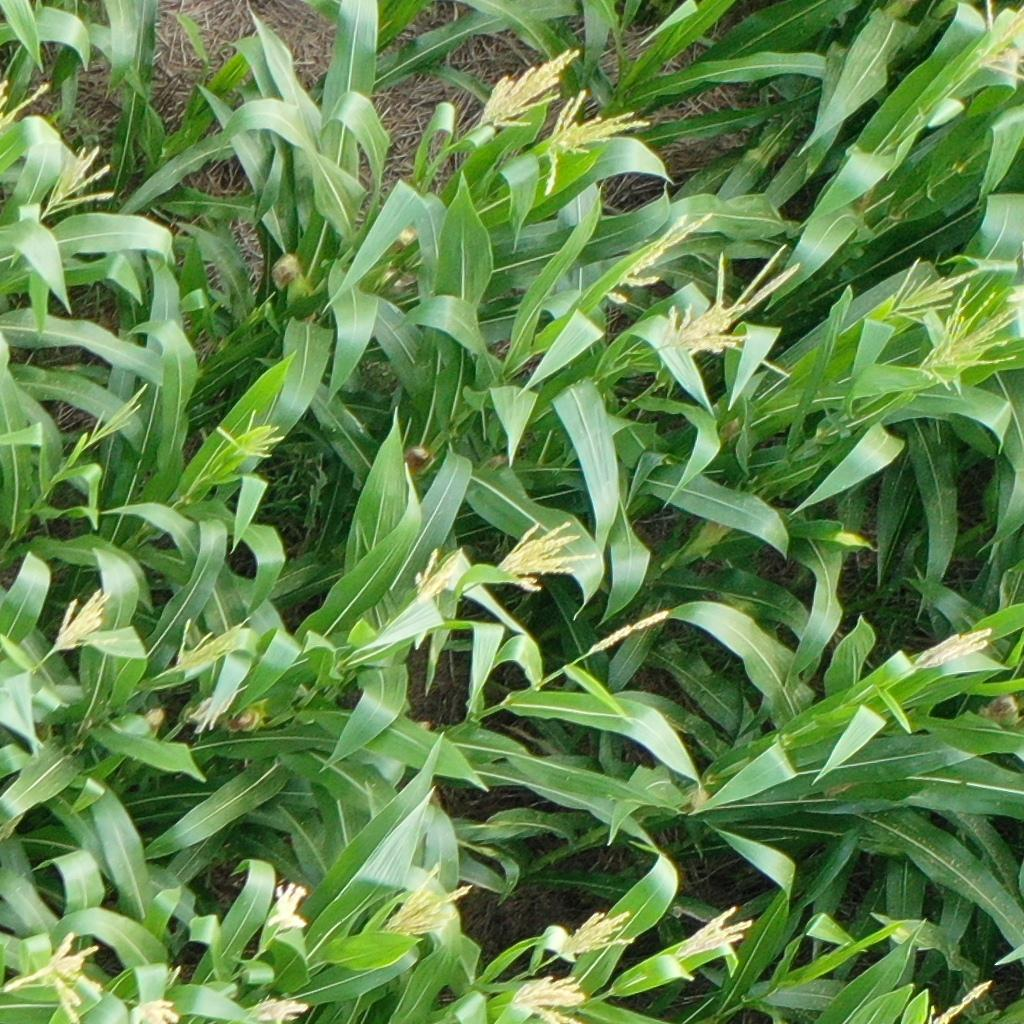Tassel: (910, 284, 1024, 396), (542, 87, 651, 196), (604, 210, 717, 315), (1, 929, 113, 1024), (473, 48, 579, 131), (883, 252, 998, 327), (488, 519, 598, 597), (711, 237, 799, 334), (379, 859, 473, 936), (39, 143, 120, 230), (577, 608, 673, 670), (47, 588, 125, 664), (170, 612, 249, 681), (77, 385, 159, 448), (662, 302, 757, 356), (669, 904, 759, 959), (550, 909, 637, 960), (210, 409, 288, 464), (506, 974, 591, 1024), (974, 1, 1024, 80), (906, 626, 995, 668), (920, 976, 996, 1024), (407, 544, 464, 607), (1, 78, 52, 135), (264, 879, 316, 932), (242, 992, 307, 1024), (128, 997, 180, 1024)
